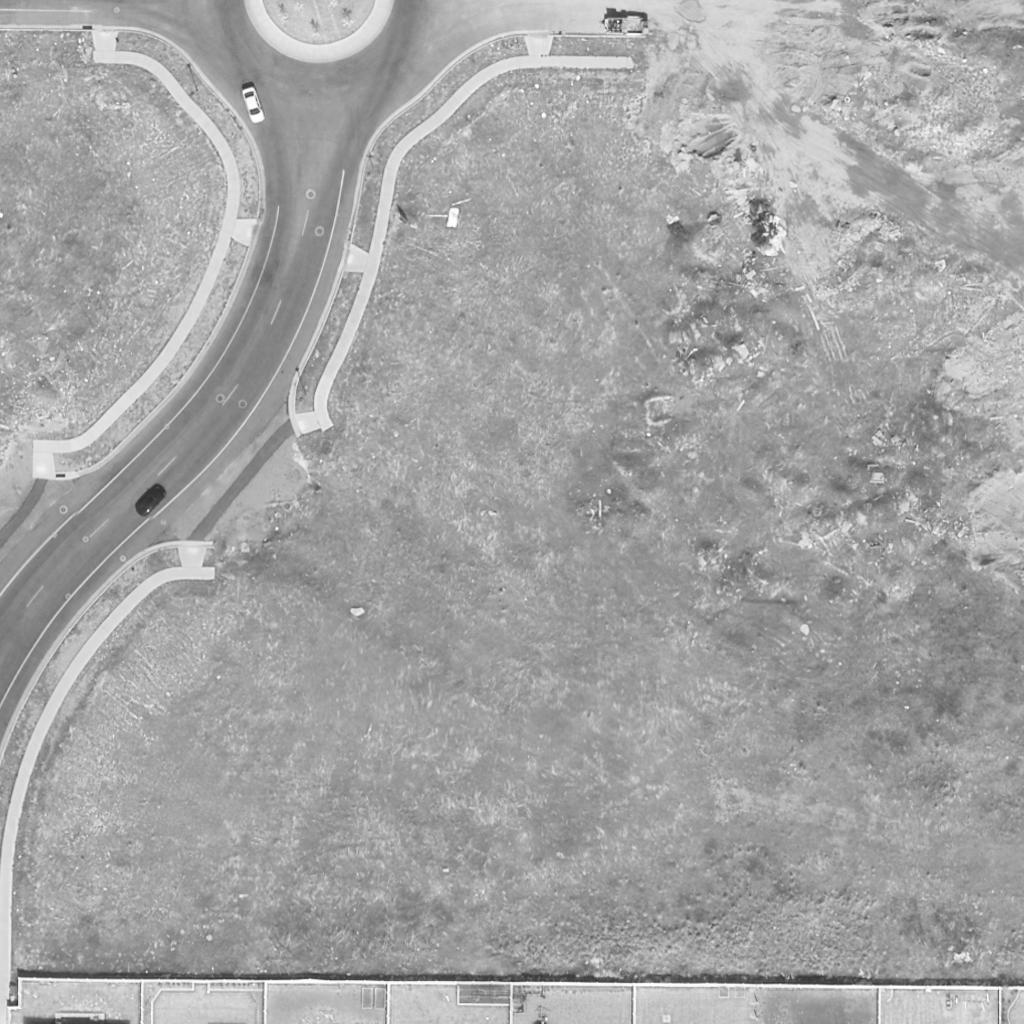vehicle: (134, 483, 168, 519), (239, 86, 267, 126)
